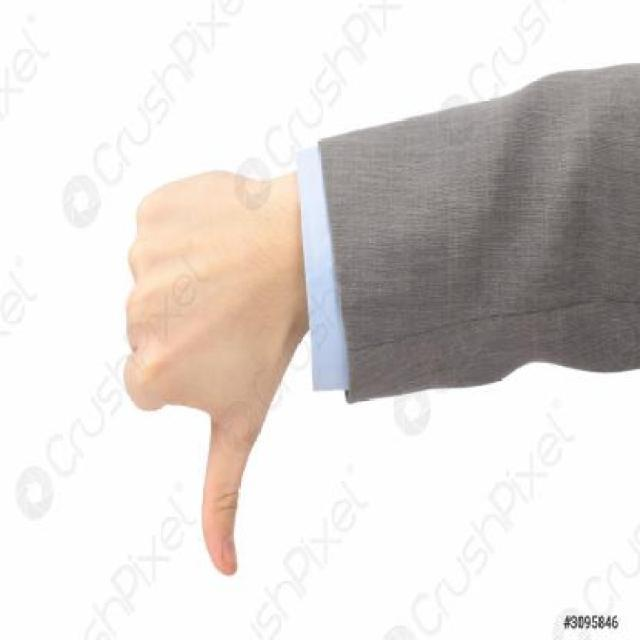no_apron: (122, 167, 293, 590)
